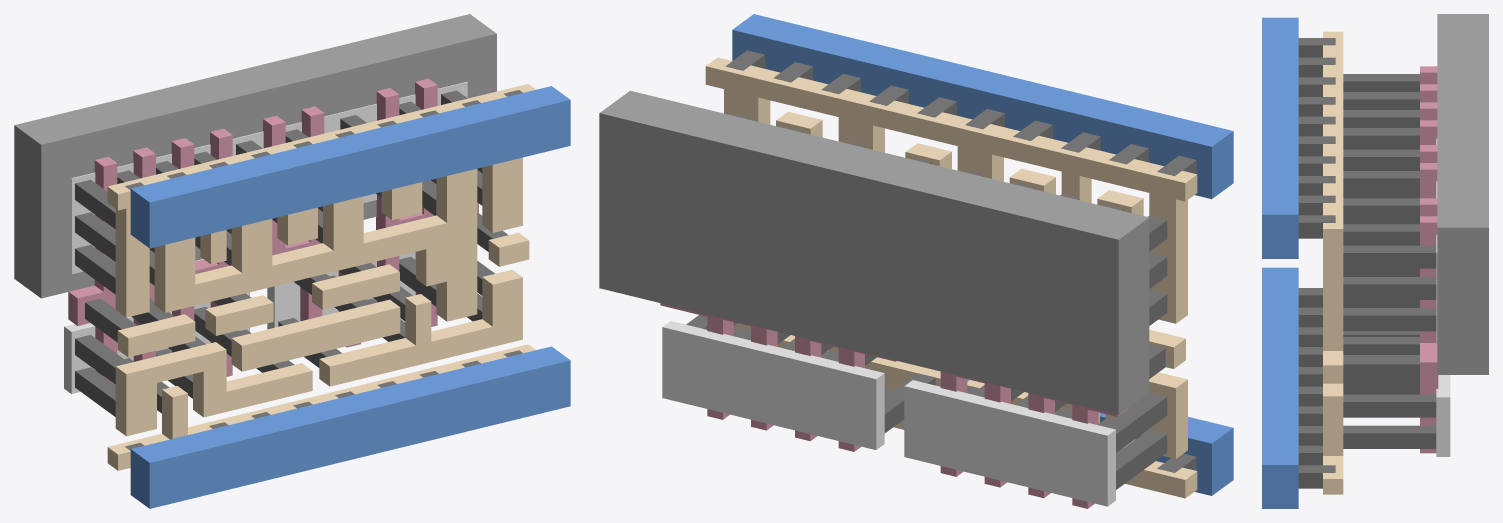
The model's file is sky130_fd_sc_hd__nand4_2.gds.gltf.
The picture shows the model from 3 angles, left to right: view 1: azimuth 30°, elevation 25°; view 2: azimuth 150°, elevation 25°; view 3: azimuth 270°, elevation 25°; orthographic projection. The views are drawn at different scales.
Parts seen in each view (by area): view 1: sky130_fd_sc_hd__nand4_2_li1, sky130_fd_sc_hd__nand4_2_met1, sky130_fd_sc_hd__nand4_2_nwell, sky130_fd_sc_hd__nand4_2_licon, sky130_fd_sc_hd__nand4_2_poly, sky130_fd_sc_hd__nand4_2_diff, sky130_fd_sc_hd__nand4_2_mcon; view 2: sky130_fd_sc_hd__nand4_2_nwell, sky130_fd_sc_hd__nand4_2_diff, sky130_fd_sc_hd__nand4_2_li1, sky130_fd_sc_hd__nand4_2_met1, sky130_fd_sc_hd__nand4_2_licon, sky130_fd_sc_hd__nand4_2_mcon, sky130_fd_sc_hd__nand4_2_poly; view 3: sky130_fd_sc_hd__nand4_2_licon, sky130_fd_sc_hd__nand4_2_nwell, sky130_fd_sc_hd__nand4_2_met1, sky130_fd_sc_hd__nand4_2_mcon, sky130_fd_sc_hd__nand4_2_li1, sky130_fd_sc_hd__nand4_2_poly, sky130_fd_sc_hd__nand4_2_diff.
Boxes of the visible parts, left/top/right/bottom form: sky130_fd_sc_hd__nand4_2_li1: left=107, top=84, right=535, bottom=470; sky130_fd_sc_hd__nand4_2_met1: left=130, top=86, right=570, bottom=508; sky130_fd_sc_hd__nand4_2_nwell: left=14, top=14, right=496, bottom=298; sky130_fd_sc_hd__nand4_2_licon: left=75, top=90, right=508, bottom=416; sky130_fd_sc_hd__nand4_2_poly: left=68, top=78, right=478, bottom=384; sky130_fd_sc_hd__nand4_2_diff: left=64, top=81, right=467, bottom=393; sky130_fd_sc_hd__nand4_2_mcon: left=125, top=90, right=522, bottom=450; sky130_fd_sc_hd__nand4_2_nwell: left=599, top=90, right=1149, bottom=414; sky130_fd_sc_hd__nand4_2_diff: left=662, top=321, right=1115, bottom=506; sky130_fd_sc_hd__nand4_2_li1: left=705, top=57, right=1197, bottom=498; sky130_fd_sc_hd__nand4_2_met1: left=732, top=14, right=1233, bottom=495; sky130_fd_sc_hd__nand4_2_licon: left=686, top=114, right=1167, bottom=489; sky130_fd_sc_hd__nand4_2_mcon: left=725, top=50, right=1196, bottom=472; sky130_fd_sc_hd__nand4_2_poly: left=660, top=303, right=1128, bottom=508; sky130_fd_sc_hd__nand4_2_licon: left=1343, top=74, right=1436, bottom=448; sky130_fd_sc_hd__nand4_2_nwell: left=1437, top=14, right=1488, bottom=374; sky130_fd_sc_hd__nand4_2_met1: left=1262, top=17, right=1298, bottom=508; sky130_fd_sc_hd__nand4_2_mcon: left=1298, top=38, right=1335, bottom=488; sky130_fd_sc_hd__nand4_2_li1: left=1323, top=31, right=1343, bottom=494; sky130_fd_sc_hd__nand4_2_poly: left=1420, top=66, right=1438, bottom=453; sky130_fd_sc_hd__nand4_2_diff: left=1436, top=138, right=1450, bottom=456.
Size of the model in its own units: 4.98 by 3.2 by 2.24.
